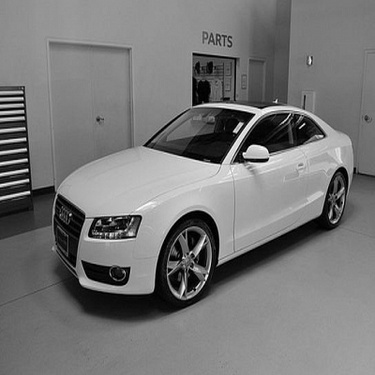car: (42, 83, 372, 314)
